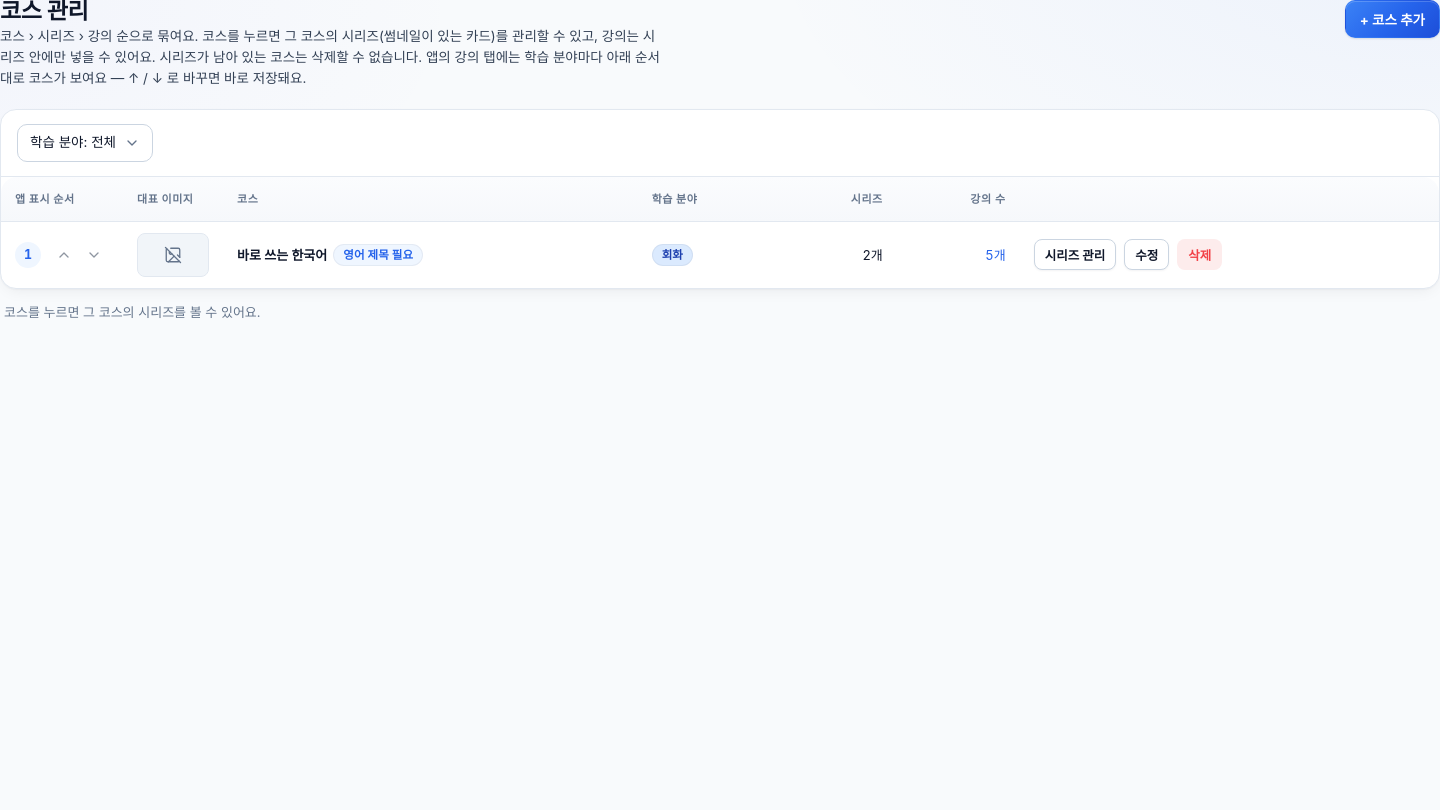
Test case: CoursesPage languages › flags a course whose English title is still a Korean stand-in
Expected: the text "영어 제목 필요" is shown, [333,244,423,266]
What coordinates should you click on to do the following:
click the button "수정"
I would click on:
 (1147, 255)
Its box is [1124,239,1169,270].
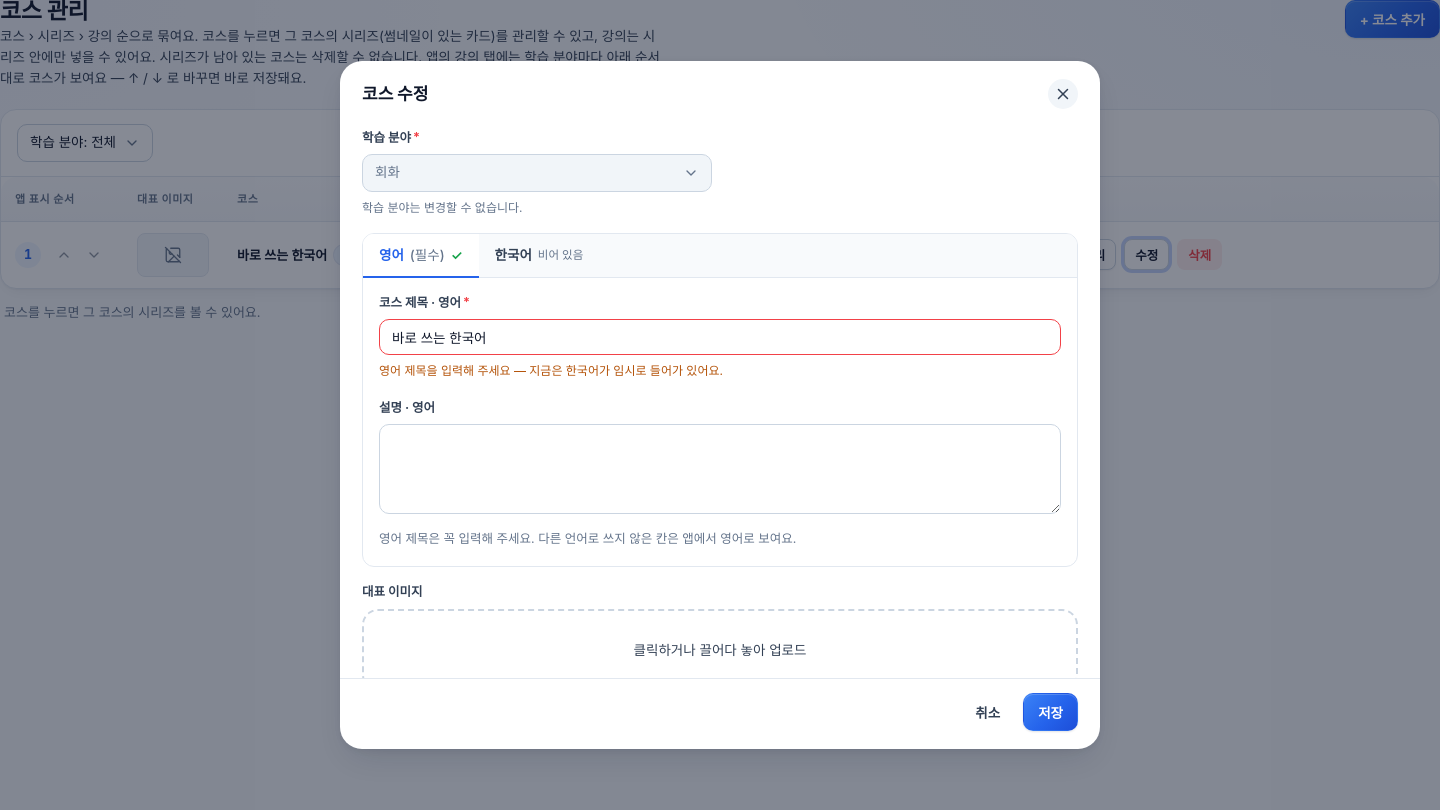
Now the text "영어 제목을 입력해 주세요 — 지금은 한국어가 임시로 들어가 있어요." is shown, box [379,364,723,378]
Now the button "저장" is enabled, box [1023,693,1078,731]
